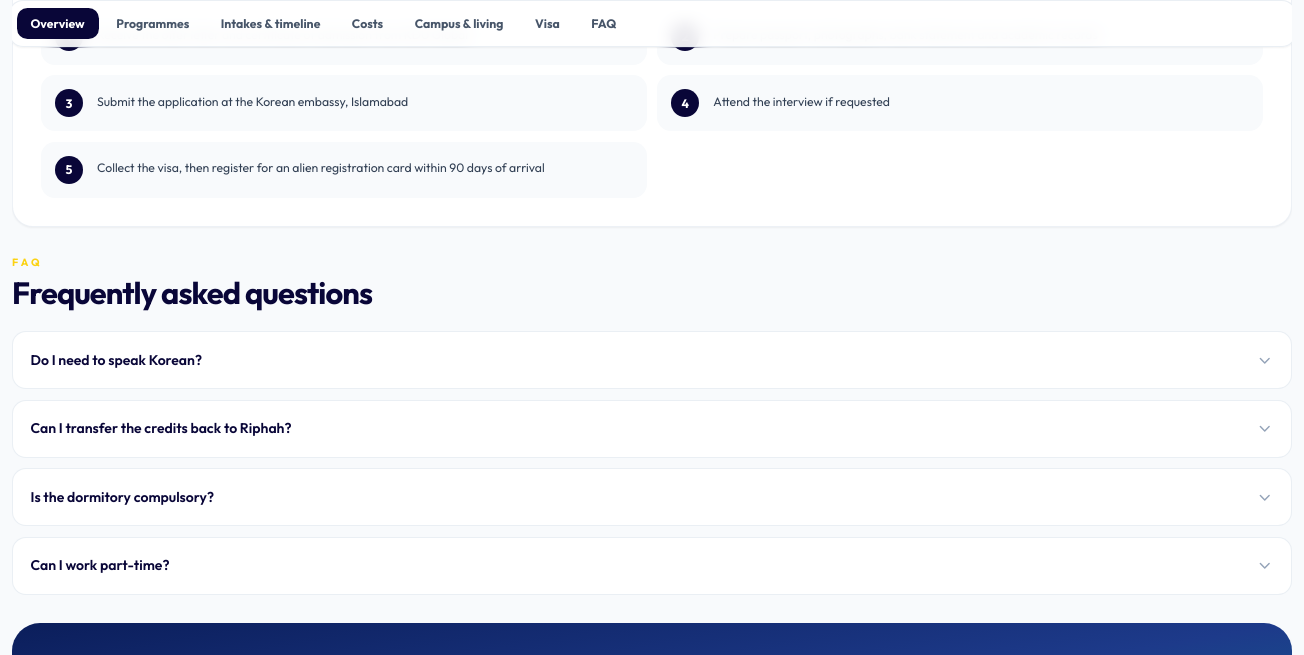
UniversityDetail › opens a FAQ answer when its question is clicked
The image size is (1304, 655).
(page scrolled)
Click the button "Do I need to speak Korean?": (116, 360) [13,332,1291,388]
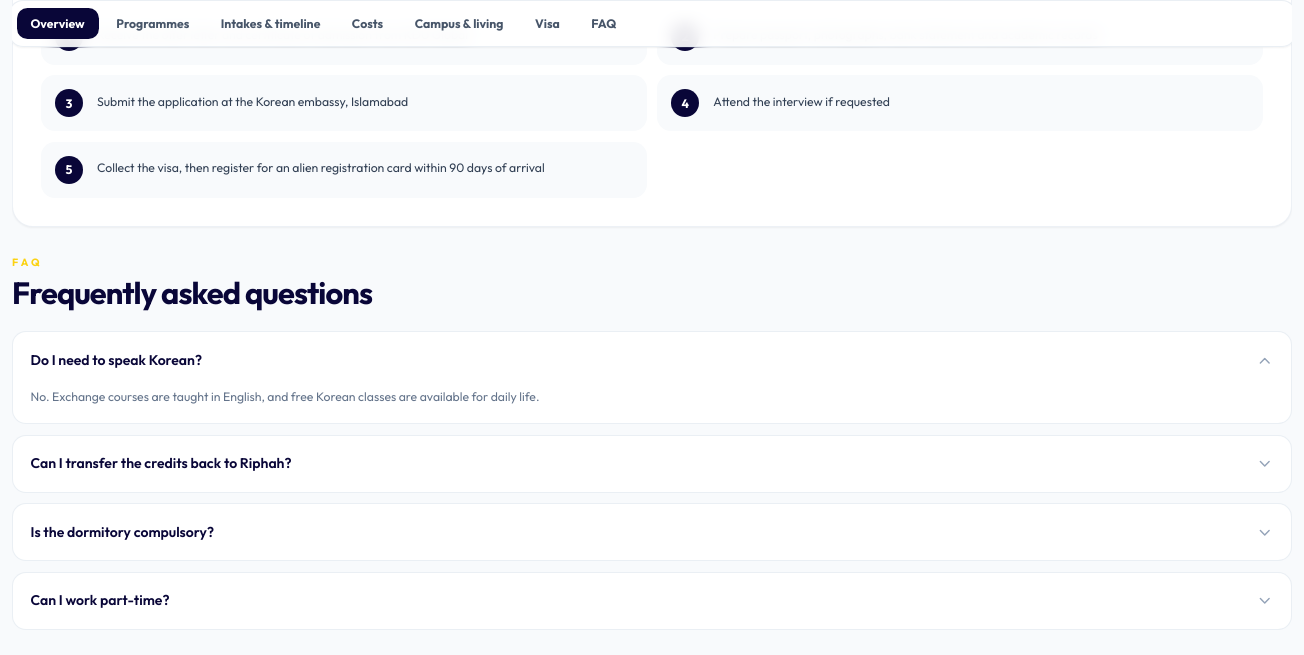
Now the text "No. Exchange courses are taught in English, and free Korean classes are available for daily life." is shown, box [30,389,539,404]
